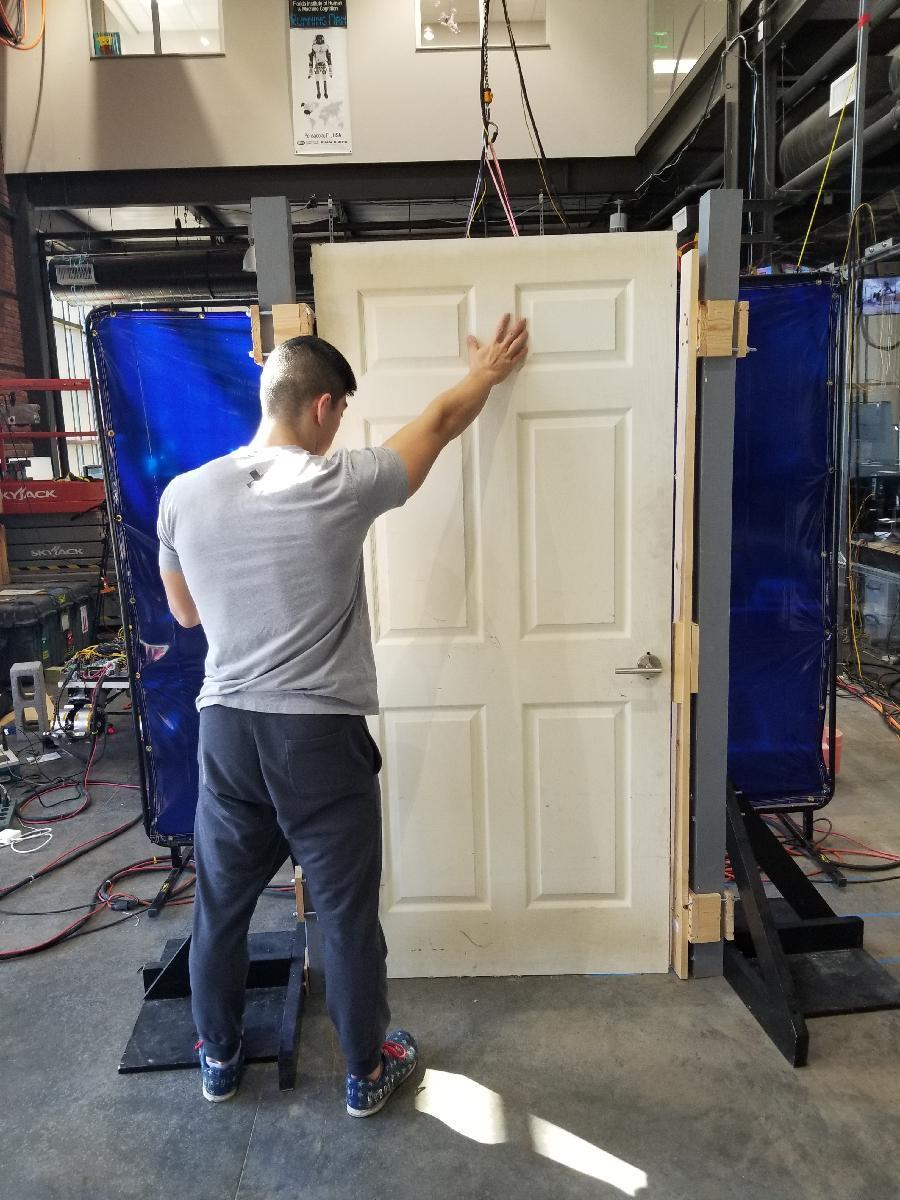door: (318, 248, 674, 975)
handle: (613, 650, 666, 682)
